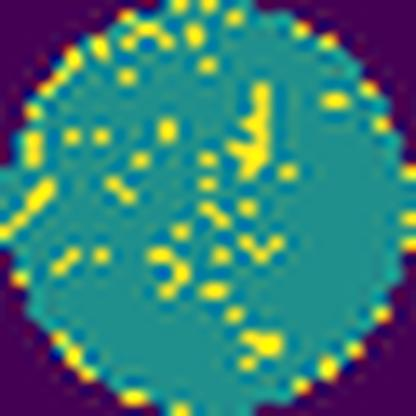Scratch: (221, 75, 276, 185)
